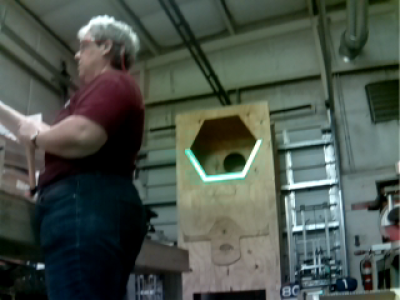target: (184, 138, 264, 183)
